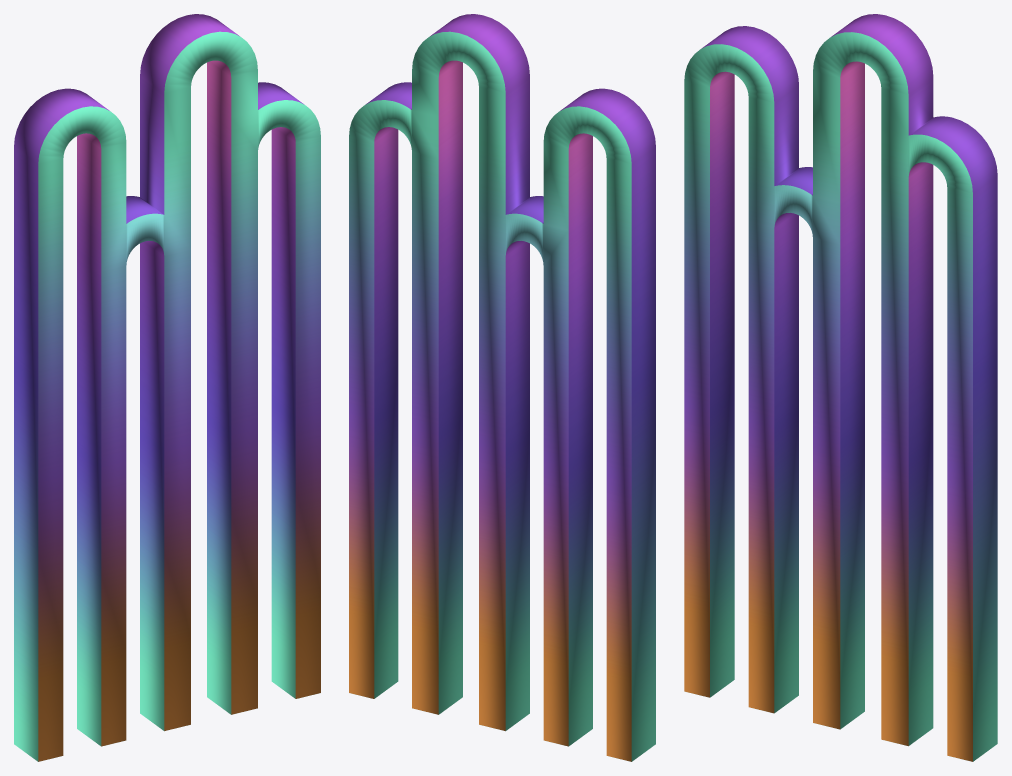
The model's file is Design_A.obj.
3 renders of one model, left to right at view 1: azimuth 30°, elevation 25°; view 2: azimuth 150°, elevation 25°; view 3: azimuth 330°, elevation 25°, orthographic. The views are drawn at different scales.
Visible parts, largest first — view 1: Design_A; view 2: Design_A; view 3: Design_A.
Boxes of the visible parts, bbox=[...] form: Design_A: bbox=[14, 14, 320, 761]; Design_A: bbox=[349, 14, 655, 761]; Design_A: bbox=[684, 14, 997, 761].
Size of the model in its own units: 67.31 by 156 by 10.
1 material, 1 textured.
